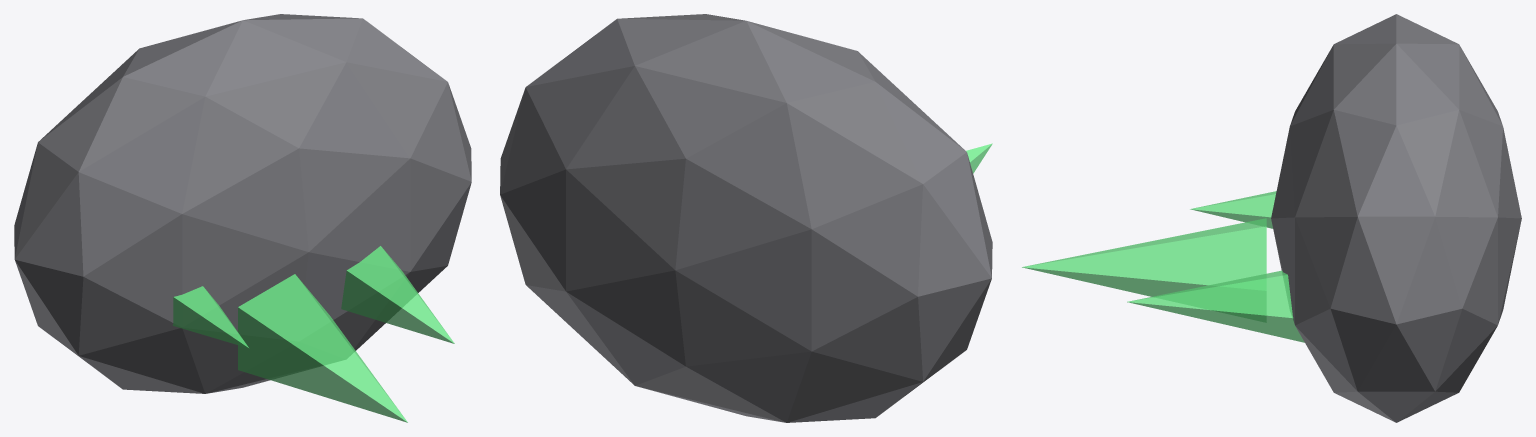
The model's file is blue_crystal_node.glb.
3 views of the same model, side by side, from view 1: azimuth 30°, elevation 25°; view 2: azimuth 150°, elevation 25°; view 3: azimuth 270°, elevation 25° (orthographic). The views are drawn at different scales.
Visible parts, largest first — view 1: rock_base, node_main, node_side_a, node_side_b; view 2: rock_base; view 3: rock_base, node_main, node_side_a, node_side_b.
Boxes of the visible parts, x1,y1,x2,y2 form: rock_base: (14, 14, 471, 393); node_main: (238, 274, 407, 422); node_side_a: (341, 246, 454, 343); node_side_b: (172, 286, 249, 348); rock_base: (500, 14, 992, 422); rock_base: (1271, 14, 1521, 422); node_main: (1022, 218, 1266, 296); node_side_a: (1127, 270, 1304, 342); node_side_b: (1190, 191, 1276, 228).
Size of the model in its own units: 1.43 by 1.1 by 1.43.
